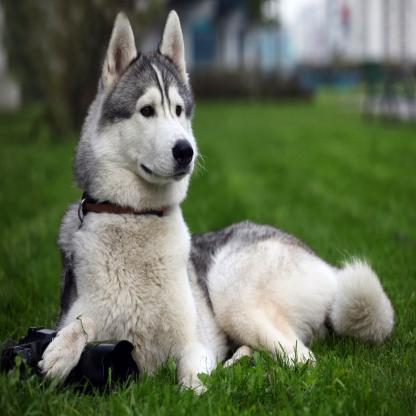dog: (41, 11, 393, 395)
